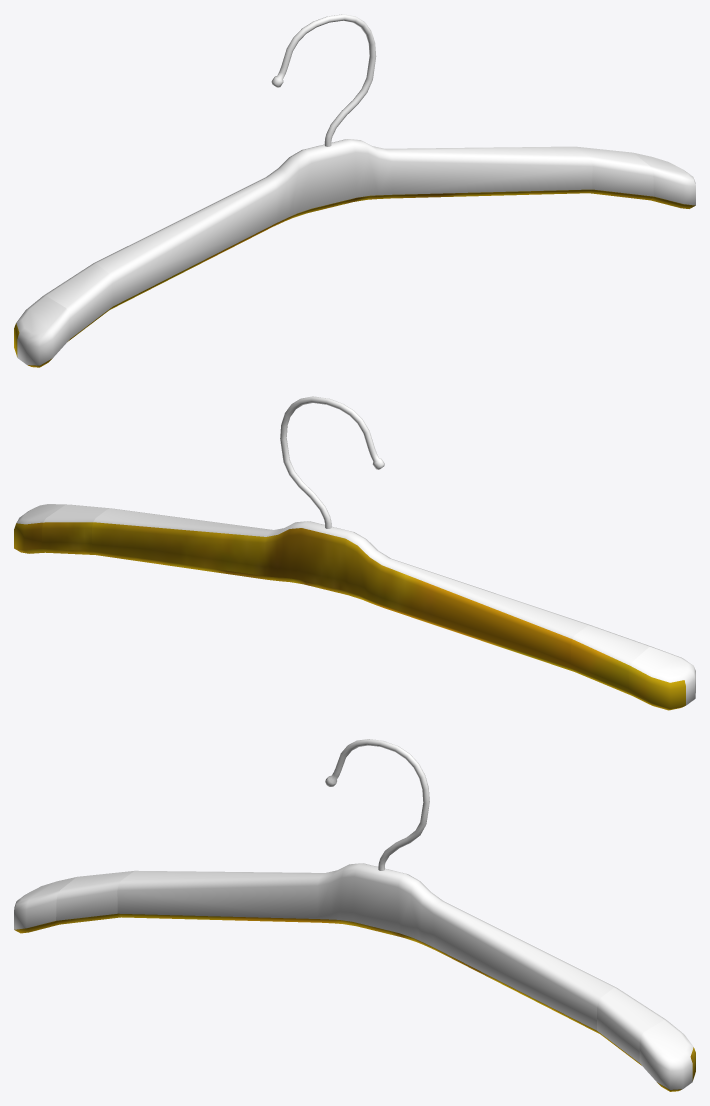
The model's file is Hanger_Top.fbx.
3 renders of one model, top to bottom at view 1: azimuth 30°, elevation 25°; view 2: azimuth 150°, elevation 25°; view 3: azimuth 330°, elevation 25°, orthographic.
Visible parts, largest first — view 1: HangerTop; view 2: HangerTop; view 3: HangerTop.
Part boxes in pixels (bbox=[...]): HangerTop: bbox=[14, 14, 695, 367]; HangerTop: bbox=[14, 396, 695, 710]; HangerTop: bbox=[14, 739, 695, 1091].
Size of the model in its own units: 45 by 15.88 by 5.33.
